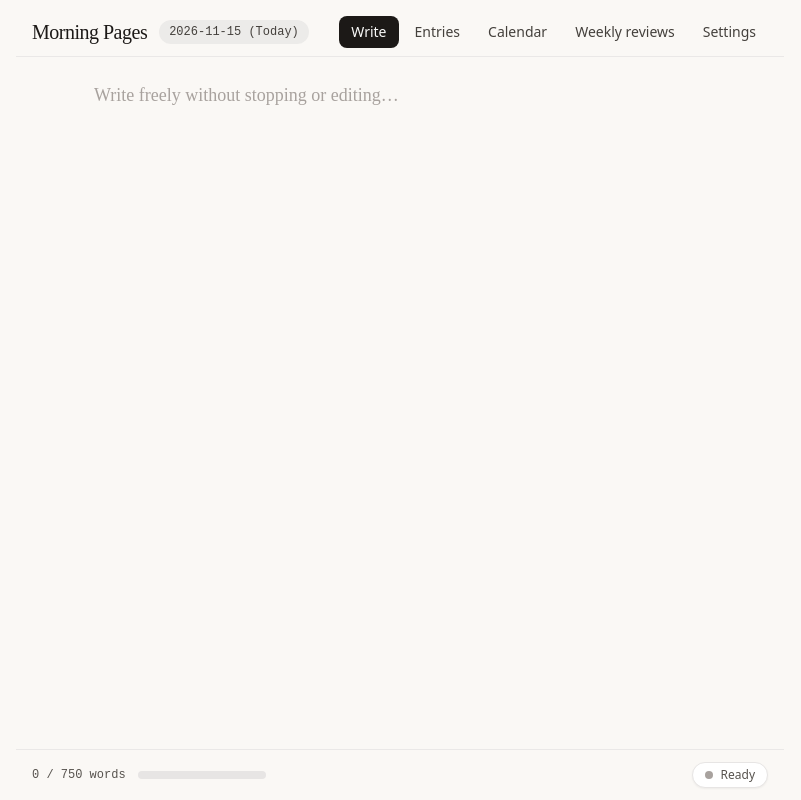
Scenario: Brief 5: PWA, Offline Queue Sync, Install Prompts & Service Worker Cache Safety › queues entries in the offline store when offline, restores draft on reload, and syncs with expectedUpdatedAt conflict protection when back online
The width and height of the screenshot is (801, 800).
Later steps or results of the test are not shown.
Type "Written while completely offline on a train." into the text box named "Journal entry for 2026-11-15" at point(400, 403), box [94, 81, 706, 725]
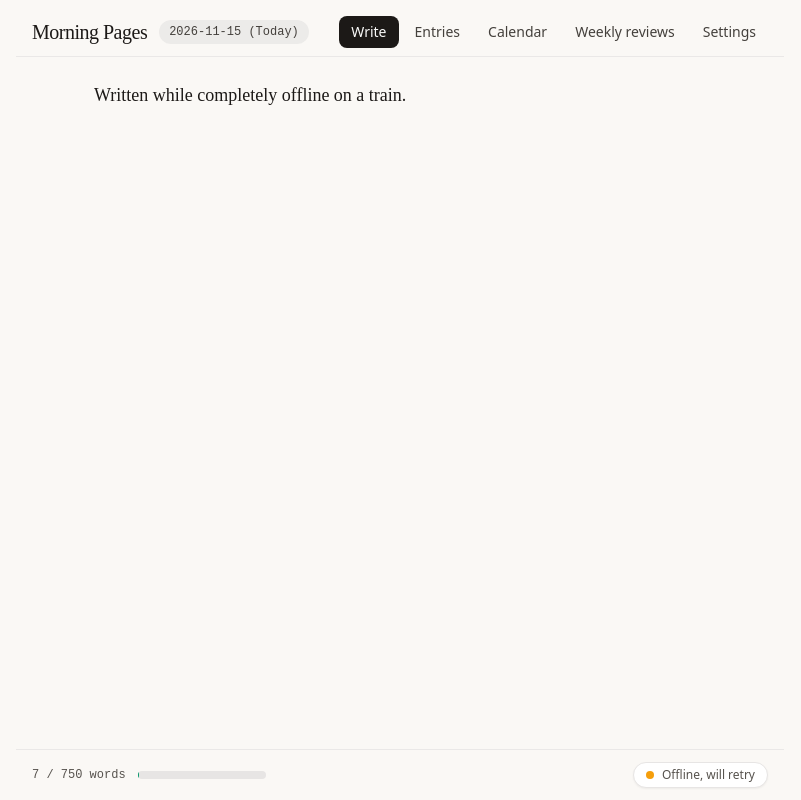
Now the text "Offline, will retry" is shown, box [662, 767, 755, 783]
